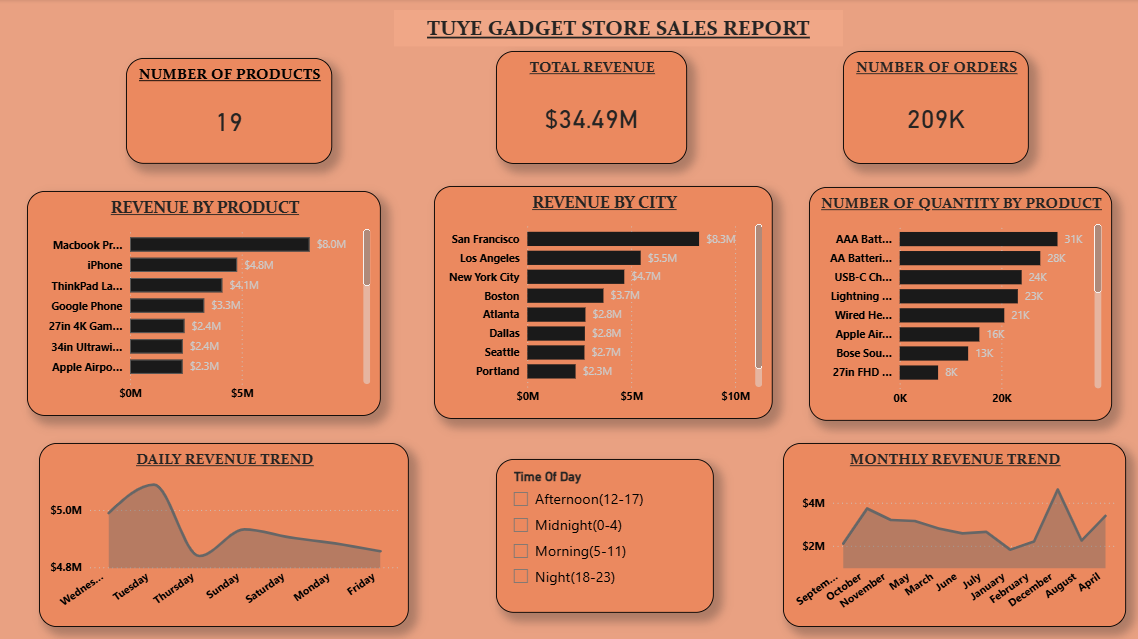

What the dashboard file says about the page in this screenshot:
{"tool":"powerbi","page":{"name":"Page 1","canvas":[1280,720],"ordinal":0},"visuals":[{"type":"card","title":"NUMBER OF PRODUCTS","fields":{"Values":["Count(Tuye Gadget Store.Product)"]},"box":[141.8,66.4,231.8,119.2],"z":0},{"type":"card","title":"TOTAL REVENUE","fields":{"Values":["Sum(Tuye Gadget Store.Sales)"]},"box":[558,58.5,214.9,127.1],"z":1000},{"type":"card","title":"NUMBER OF ORDERS","fields":{"Values":["CountNonNull(Tuye Gadget Store.Order ID)"]},"box":[948.4,58.5,209.2,127.1],"z":2000},{"type":"barChart","title":"REVENUE BY PRODUCT","fields":{"Category":["Tuye Gadget Store.Product"],"Y":["Sum(Tuye Gadget Store.Sales)"]},"box":[30.8,215.9,398.4,253.2],"z":3000},{"type":"clusteredBarChart","title":"NUMBER OF QUANTITY BY PRODUCT","fields":{"Category":["Tuye Gadget Store.Product"],"Y":["Sum(Tuye Gadget Store.Quantity Ordered)"]},"box":[910,211.2,341.2,262.5],"z":4000},{"type":"barChart","title":"REVENUE BY CITY","fields":{"Y":["Sum(Tuye Gadget Store.Sales)"],"Category":["Tuye Gadget Store.City"]},"box":[488.2,210.4,381.4,262.1],"z":5000},{"type":"lineChart","title":"MONTHLY REVENUE TREND","fields":{"Category":["Tuye Gadget Store.Month"],"Y":["Sum(Tuye Gadget Store.Sales)"]},"box":[880.3,499.9,385.5,206.9],"z":6000},{"type":"lineChart","title":"DAILY REVENUE TREND","fields":{"Category":["Tuye Gadget Store.Day"],"Y":["Sum(Tuye Gadget Store.Sales)"]},"box":[43.7,499.9,416.4,206.9],"z":7000},{"type":"textbox","box":[443.8,12.5,505,41.2],"z":8000},{"type":"slicer","fields":{"Values":["Tuye Gadget Store.Time Of Day"]},"box":[557.5,517.5,245,172.5],"z":9000}]}

Visuals, with their boxes in screenshot pixels (x1, y1, x2, y2), scaled from the page's 1280x720 canvas onto the 1138x639 screenshot:
"NUMBER OF PRODUCTS" card: 126/59/332/165
"TOTAL REVENUE" card: 496/52/687/165
"NUMBER OF ORDERS" card: 843/52/1029/165
"REVENUE BY PRODUCT" barChart: 27/192/382/416
"NUMBER OF QUANTITY BY PRODUCT" clusteredBarChart: 809/187/1112/420
"REVENUE BY CITY" barChart: 434/187/773/419
"MONTHLY REVENUE TREND" lineChart: 783/444/1125/627
"DAILY REVENUE TREND" lineChart: 39/444/409/627
textbox: 395/11/844/48
slicer - Tuye Gadget Store.Time Of Day: 496/459/713/612
